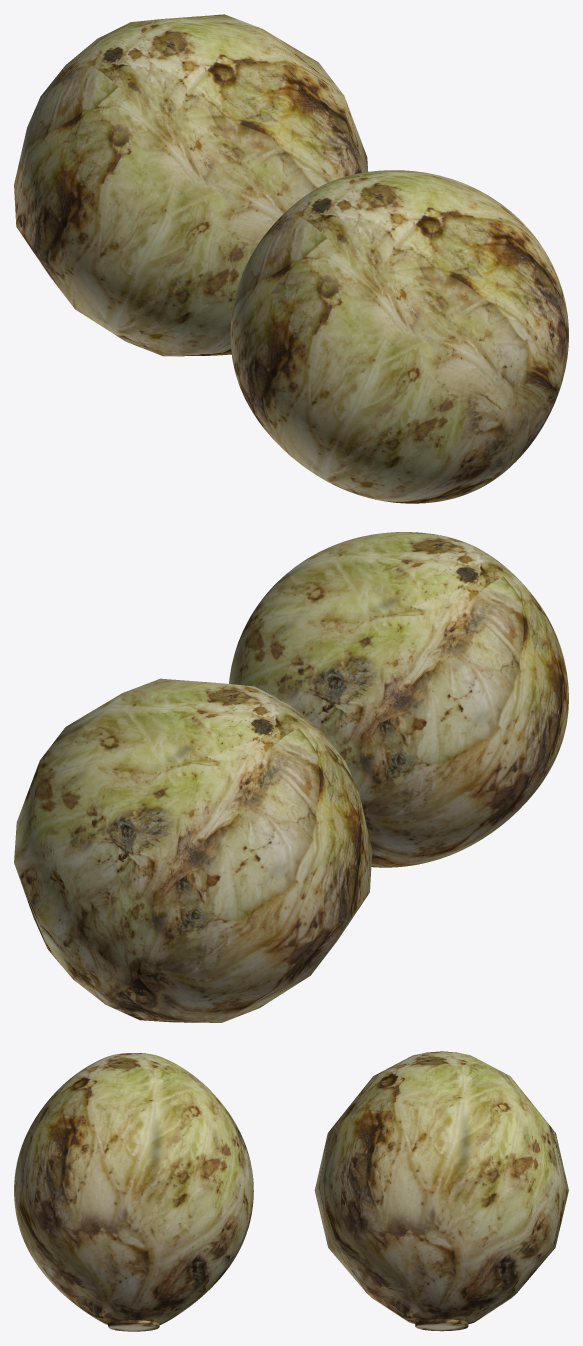
The model's file is Sayur.fbx.
3 views of the same model, one above another, from view 1: azimuth 30°, elevation 25°; view 2: azimuth 150°, elevation 25°; view 3: azimuth 270°, elevation 25° (orthographic). The views are drawn at different scales.
Visible parts, largest first — view 1: Sayur Subdive, Sayur Solidify; view 2: Sayur Solidify, Sayur Subdive; view 3: Sayur Solidify, Sayur Subdive.
Boxes of the visible parts, left/top/right/bottom form: Sayur Subdive: left=230, top=170, right=568, bottom=503; Sayur Solidify: left=14, top=14, right=368, bottom=356; Sayur Solidify: left=14, top=678, right=372, bottom=1022; Sayur Subdive: left=229, top=532, right=568, bottom=867; Sayur Solidify: left=314, top=1051, right=568, bottom=1331; Sayur Subdive: left=14, top=1053, right=253, bottom=1331.
Size of the model in its own units: 21.15 by 21.2 by 44.52.
1 material, 1 textured.
